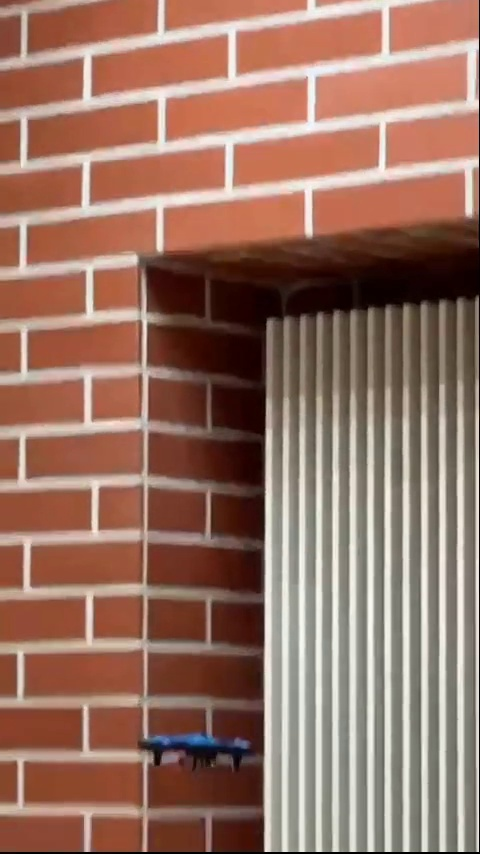drone: (138, 727, 251, 776)
